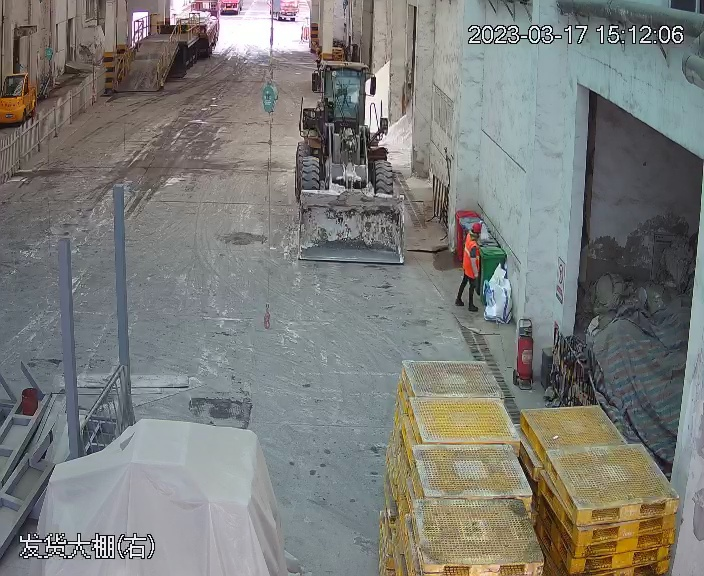helmet: (471, 222, 484, 235)
people: (456, 220, 484, 311), (461, 221, 485, 262)
